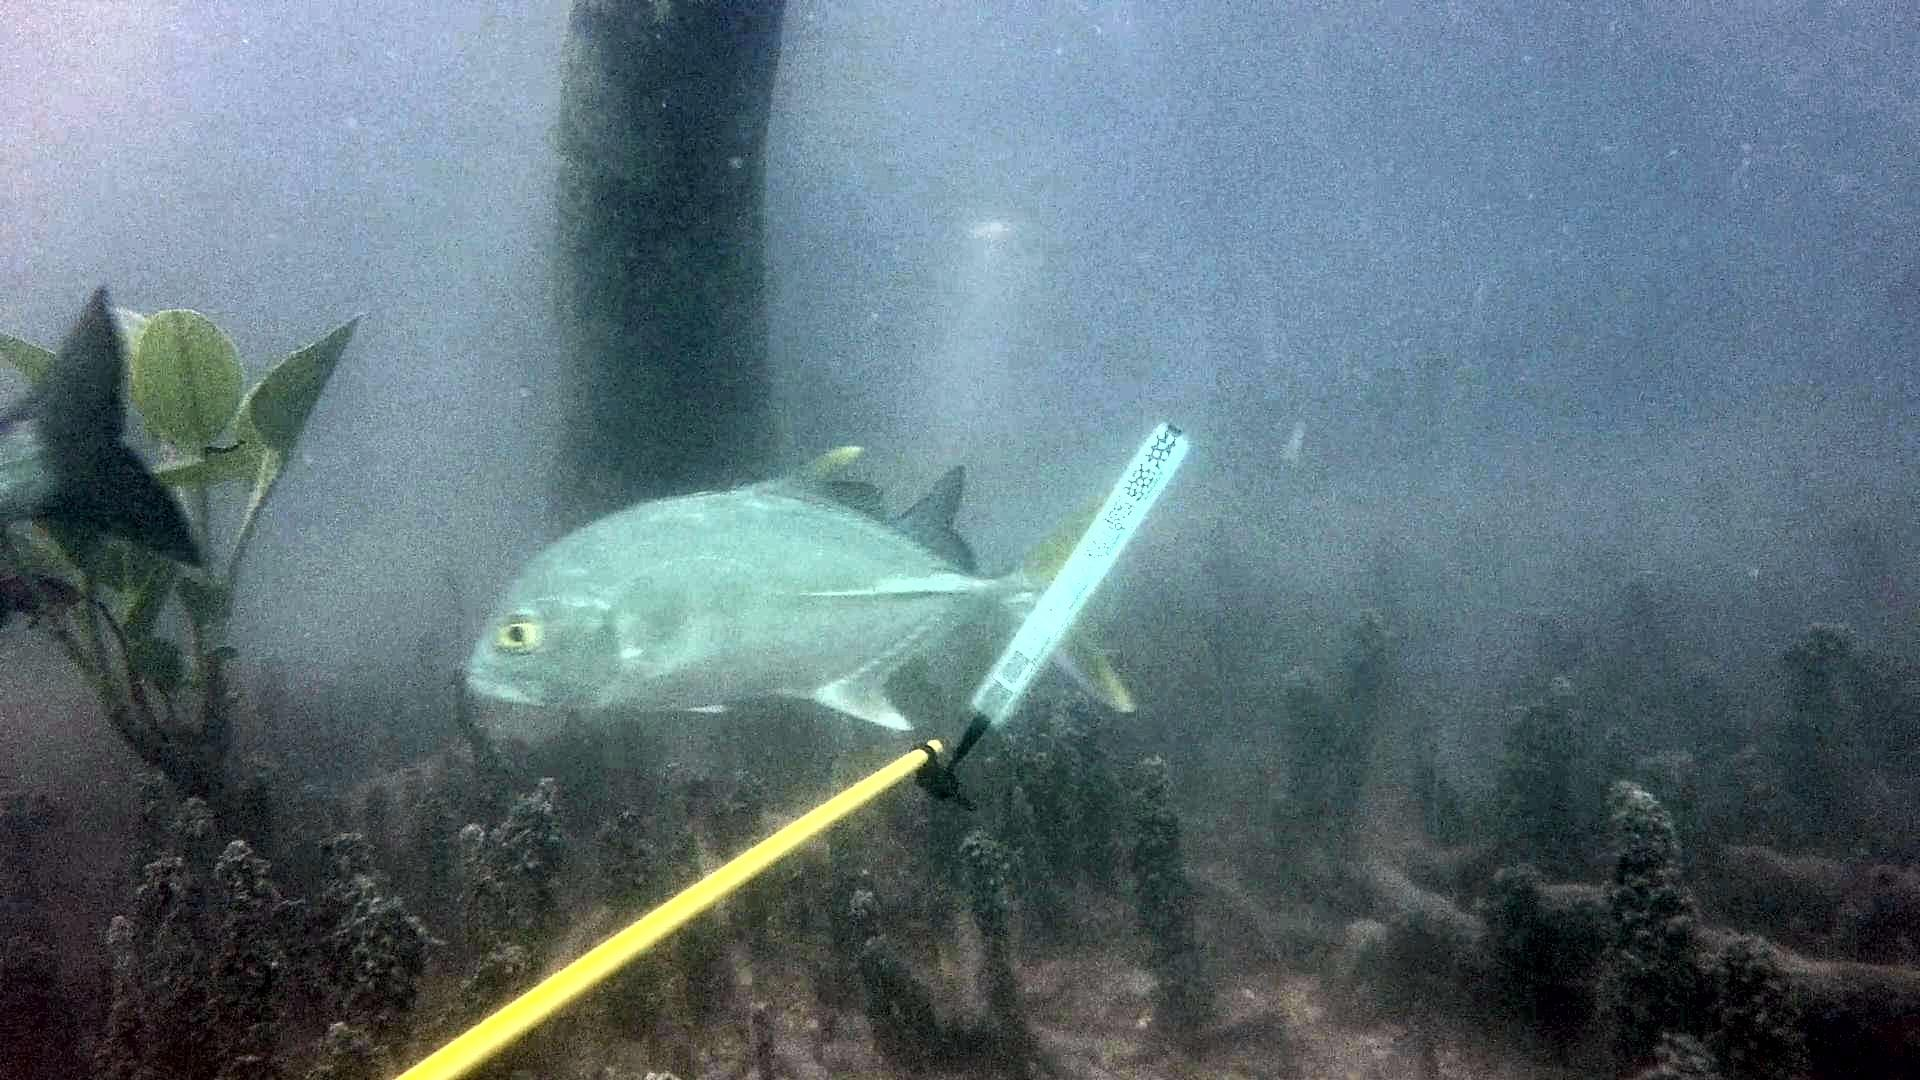acanthopagrus palmaris: (0, 284, 223, 589)
caranx: (446, 434, 1158, 764)
